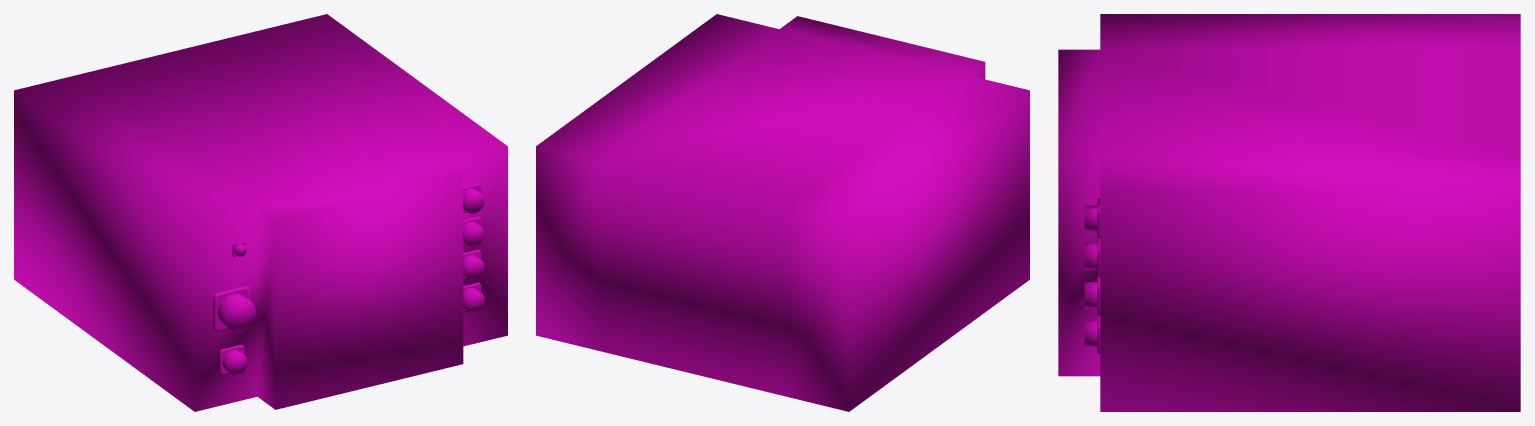
The model's file is Cargo_Block500.fbx.
The picture shows the model from 3 angles, left to right: view 1: azimuth 30°, elevation 25°; view 2: azimuth 150°, elevation 25°; view 3: azimuth 270°, elevation 25°; orthographic projection. The views are drawn at different scales.
Parts seen in each view (by area): view 1: Cargo_Block500; view 2: Cargo_Block500; view 3: Cargo_Block500.
Boxes of the visible parts, left/top/right/bottom form: Cargo_Block500: left=14, top=14, right=507, bottom=411; Cargo_Block500: left=536, top=14, right=1029, bottom=411; Cargo_Block500: left=1058, top=14, right=1520, bottom=411.
Bounding box in the file's own units: 468 × 270 × 514.
